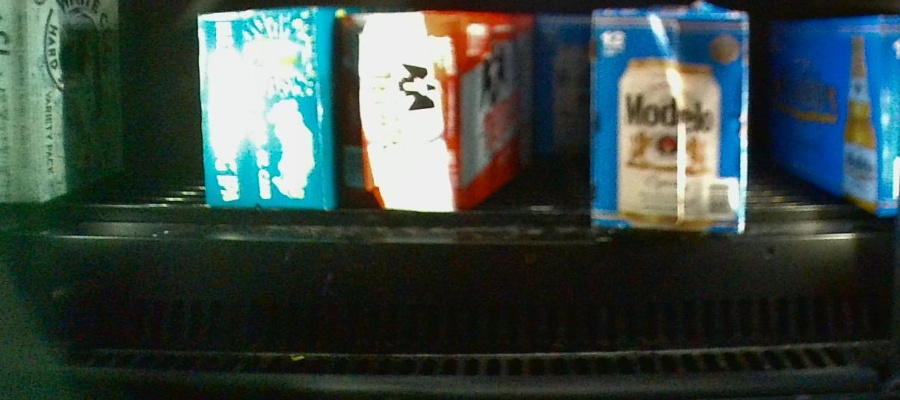bottle: (588, 11, 745, 236), (332, 13, 487, 211), (195, 8, 339, 216), (764, 18, 896, 216), (530, 15, 588, 160)
